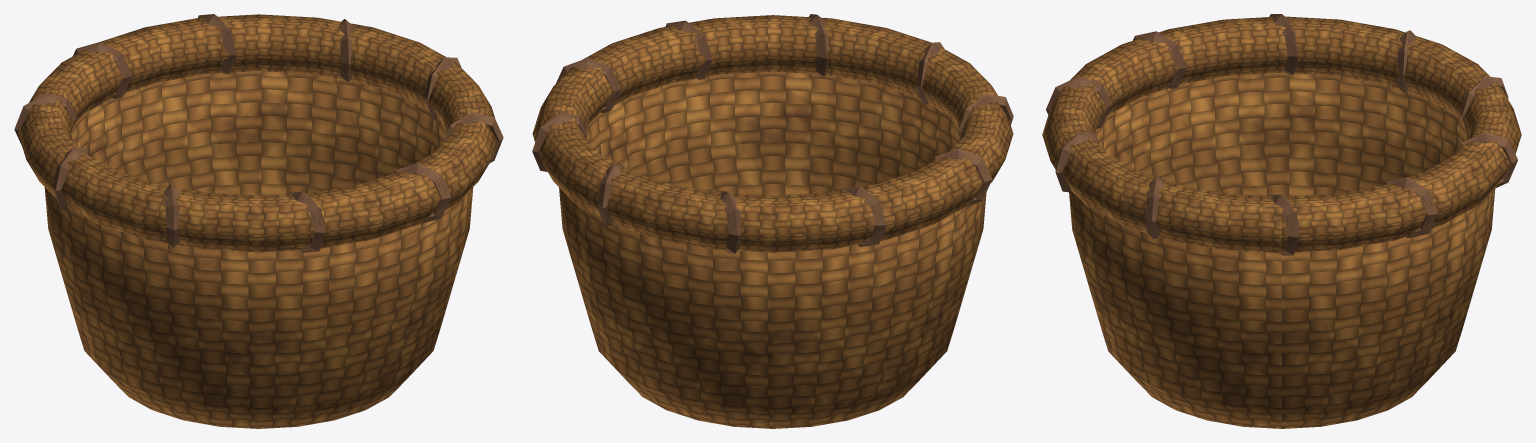
Rendered from wicker_basket.glb.
3 renders of one model, left to right at view 1: azimuth 30°, elevation 25°; view 2: azimuth 150°, elevation 25°; view 3: azimuth 270°, elevation 25°, orthographic.
Visible parts, largest first — view 1: wicker_basket_basket_body, wicker_basket_rim; view 2: wicker_basket_basket_body, wicker_basket_rim; view 3: wicker_basket_basket_body, wicker_basket_rim.
Boxes of the visible parts, <box> form: wicker_basket_basket_body: <box>44,71,473,428</box>; wicker_basket_rim: <box>14,14,503,252</box>; wicker_basket_basket_body: <box>559,71,986,428</box>; wicker_basket_rim: <box>532,14,1013,253</box>; wicker_basket_basket_body: <box>1069,72,1495,428</box>; wicker_basket_rim: <box>1042,14,1521,255</box>.
Size of what is drawn, in the model's own units: 0.649 by 0.385 by 0.64.
Materials: 2 (2 with a texture image).
